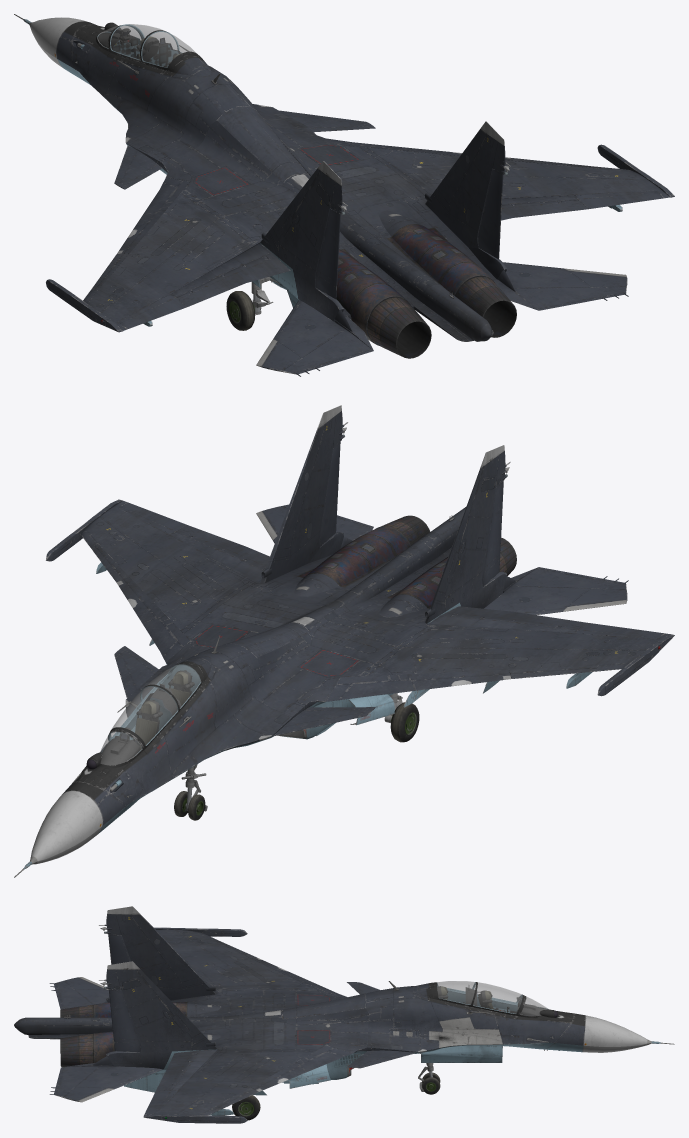
File: pbr_sukhoi_su-30.glb
The picture shows the model from 3 angles, top to bottom: view 1: azimuth 30°, elevation 25°; view 2: azimuth 150°, elevation 25°; view 3: azimuth 270°, elevation 25°; orthographic projection. The views are drawn at different scales.
Visible parts, largest first — view 1: fuselage_0, cockpit glass_1; view 2: fuselage_0, cockpit glass_1; view 3: fuselage_0, cockpit glass_1.
Boxes of the visible parts, x1,y1,x2,y2 form: fuselage_0: (14, 14, 674, 376); cockpit glass_1: (97, 24, 195, 67); fuselage_0: (14, 405, 674, 877); cockpit glass_1: (100, 664, 200, 764); fuselage_0: (14, 906, 674, 1123); cockpit glass_1: (437, 981, 548, 1015).
Bounding box in the file's own units: 33.53 × 13.09 × 49.52.
Materials: 2 (2 with a texture image).
